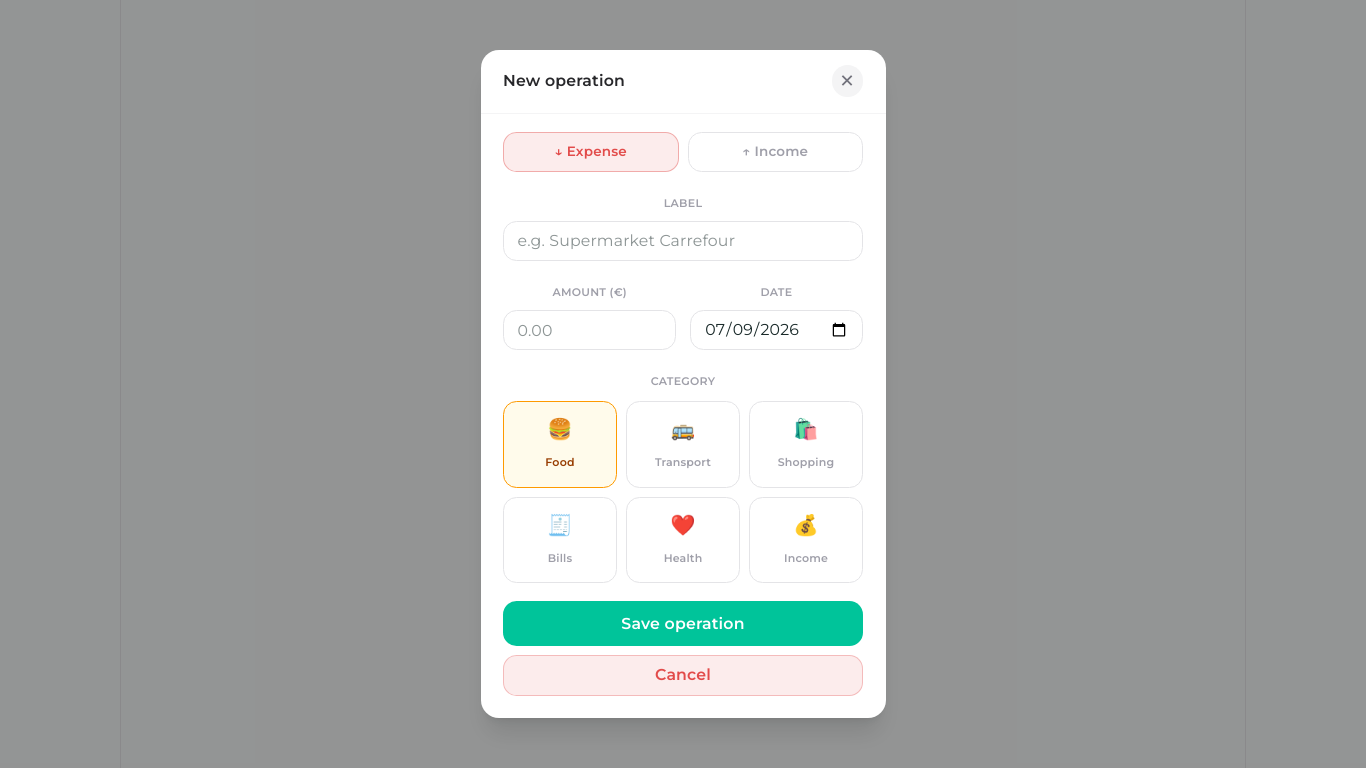
it: AddOperationModal › shows a validation error when the form is submitted empty
Click the button "Save operation".
click(683, 624)  # box [503,601,863,646]
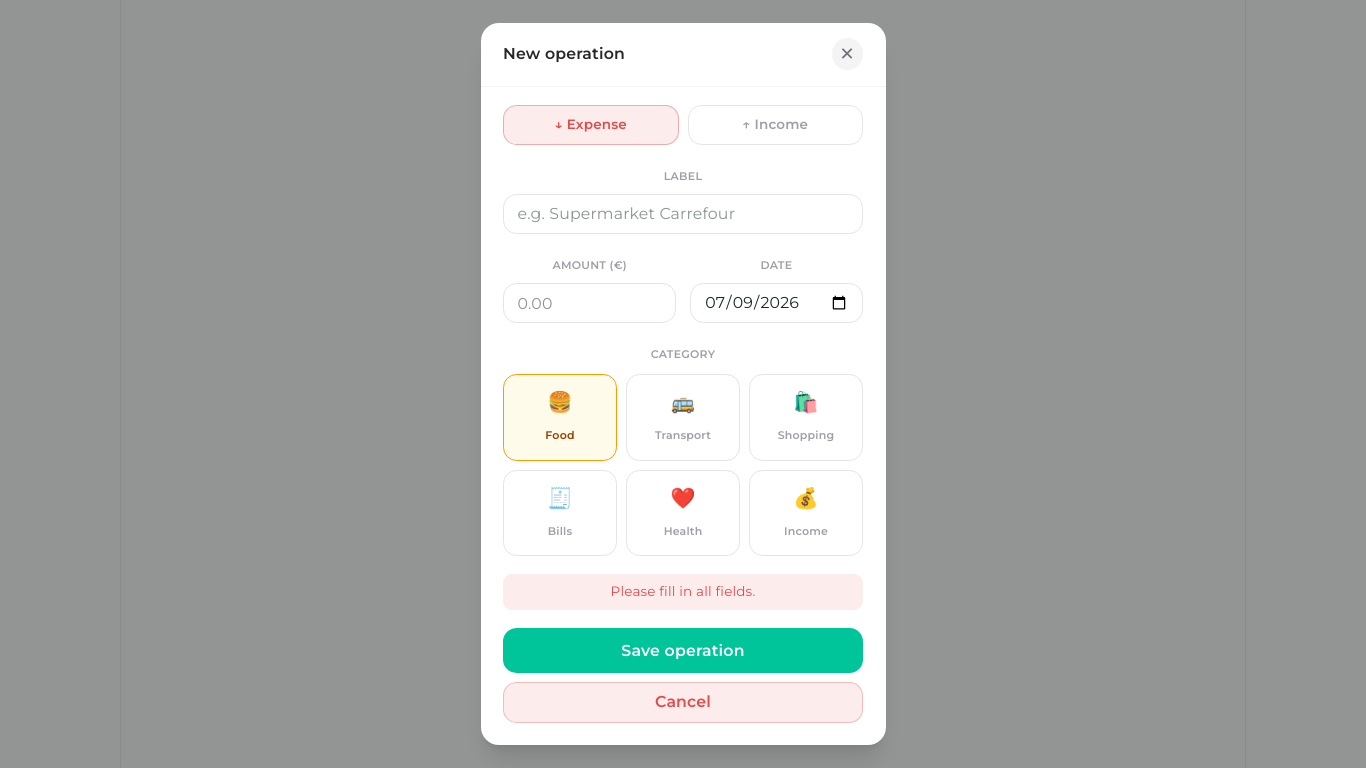
expect the text "Please fill in all fields." is shown: met, box [503,574,863,610]
